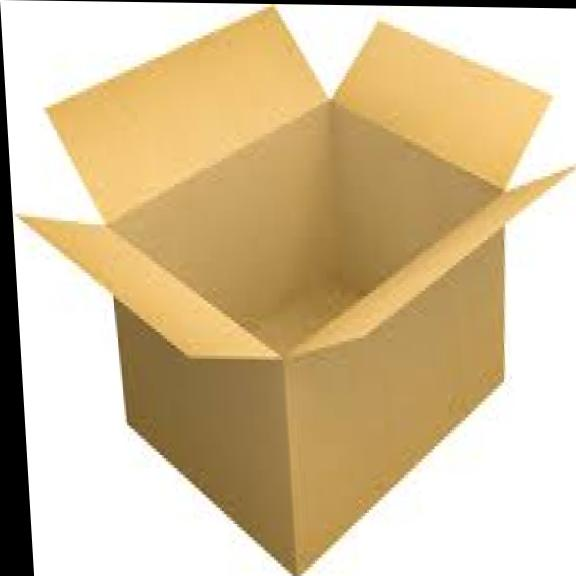Kertas: (20, 8, 565, 573)
